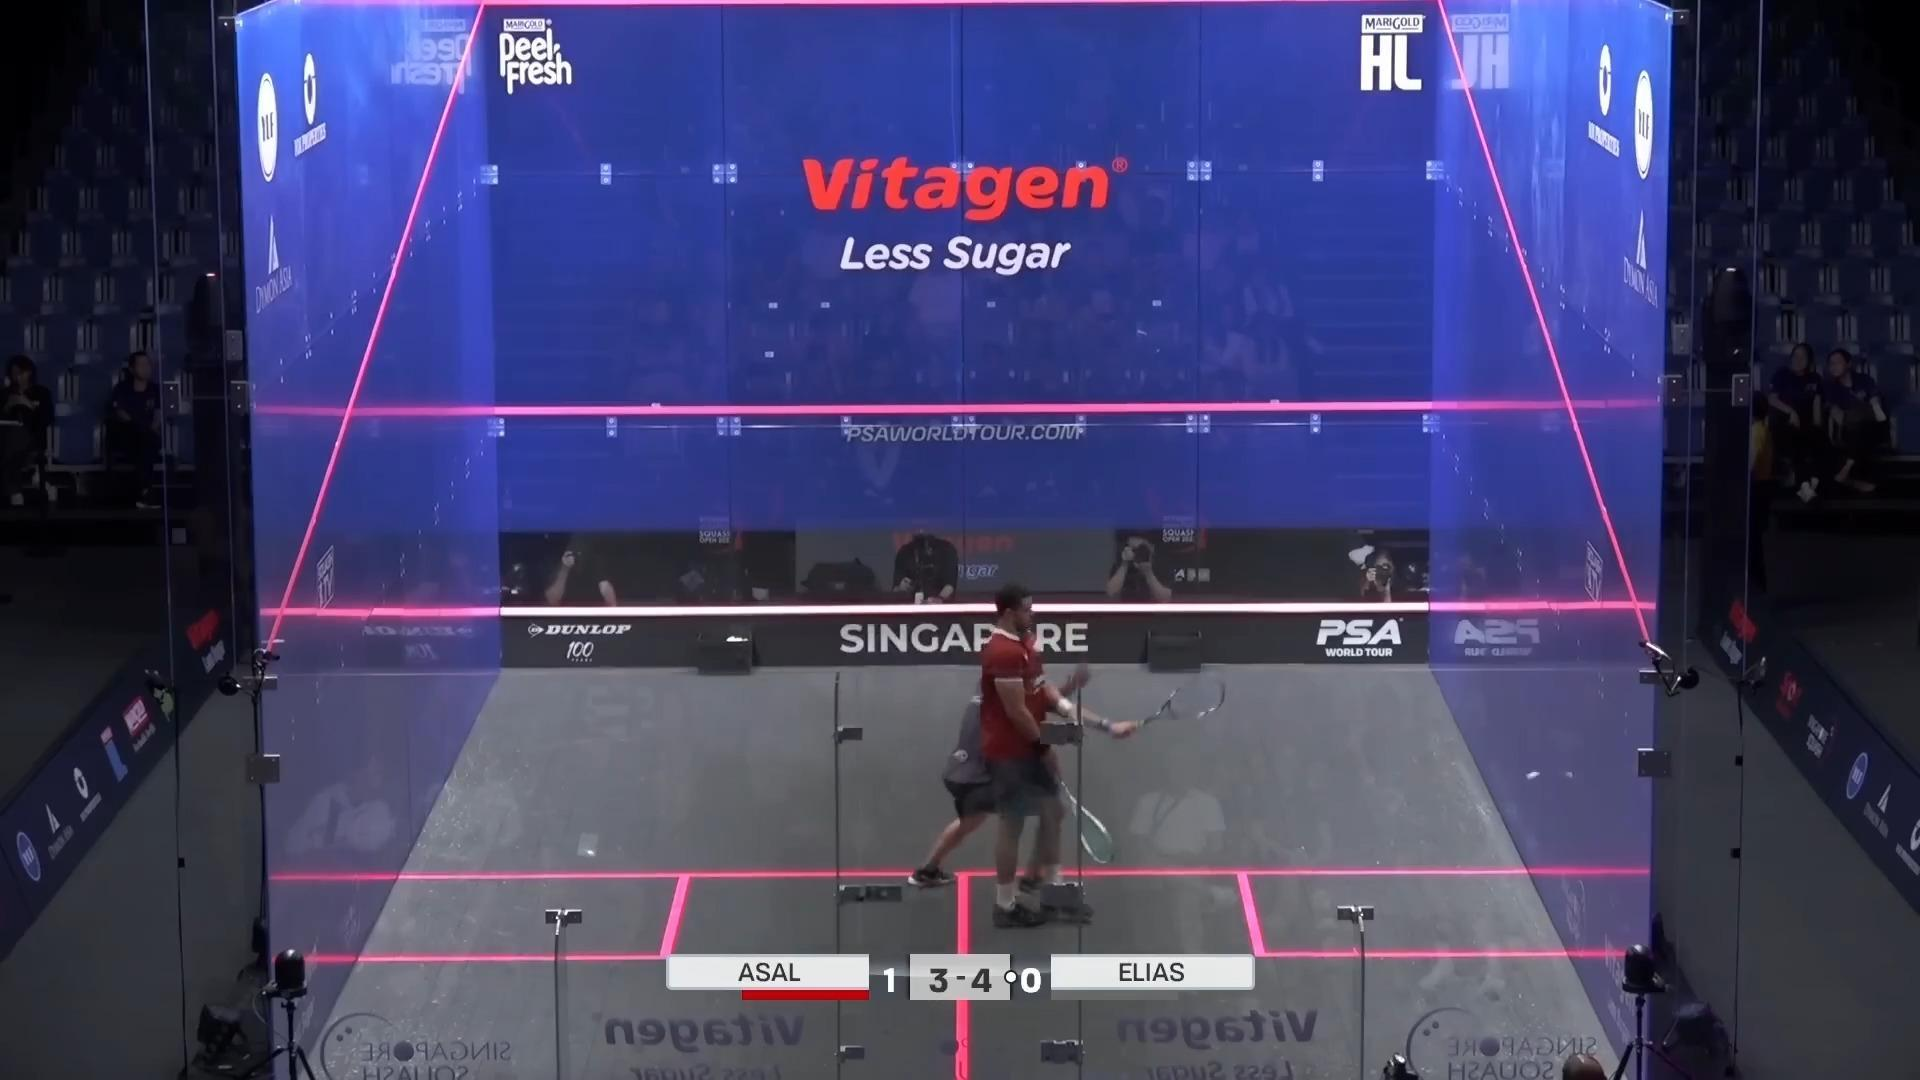Squash-Ball: (1514, 752, 1555, 800)
